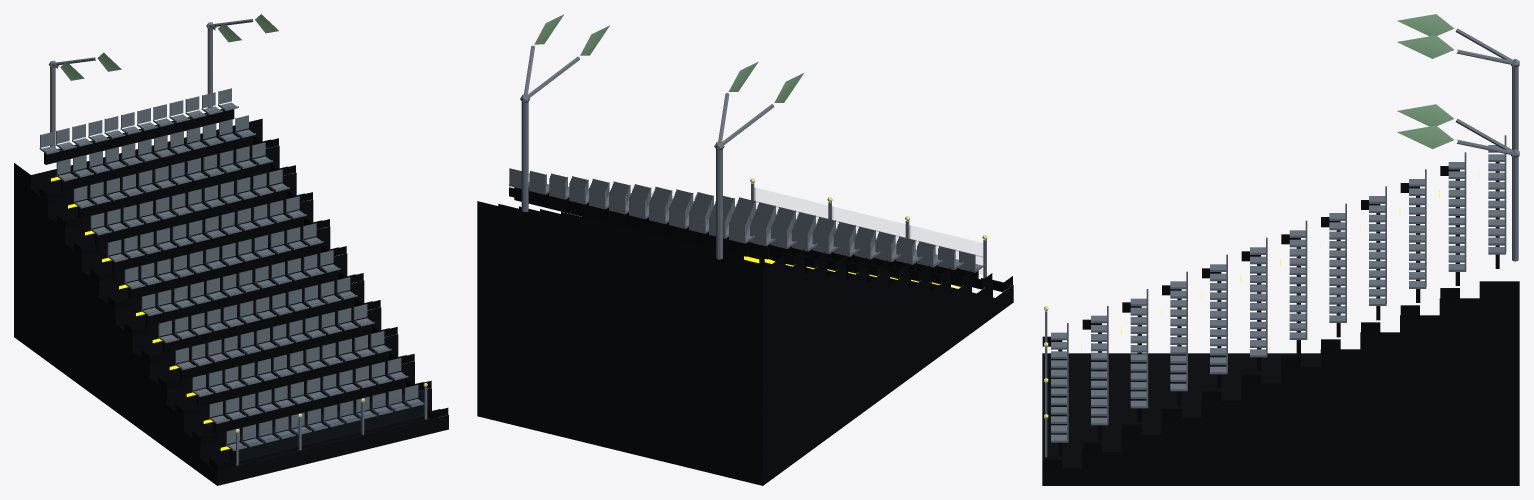
File: tt_stand_module_f3.glb
3 views of the same model, side by side, from view 1: azimuth 30°, elevation 25°; view 2: azimuth 150°, elevation 25°; view 3: azimuth 270°, elevation 25° (orthographic). The views are drawn at different scales.
Visible parts, largest first — view 1: Tier_Concrete, Seat_Backs, Seat_Beams, Seat_Pans, Aisle_Steps, Canopy_Steel, Canopy_Leaves, Rail_Posts; view 2: Tier_Concrete, Seat_Backs, Seat_Beams, Canopy_Steel, Aisle_Steps, Seat_Pans, Canopy_Leaves; view 3: Tier_Concrete, Seat_Pans, Aisle_Steps, Seat_Backs, Canopy_Leaves, Canopy_Steel, Seat_Beams.
Boxes of the visible parts, x1=… form: Tier_Concrete: x1=14, y1=118, x2=448, y2=485; Seat_Backs: x1=40, y1=88, x2=418, y2=444; Seat_Beams: x1=44, y1=107, x2=420, y2=460; Seat_Pans: x1=39, y1=102, x2=424, y2=450; Aisle_Steps: x1=39, y1=137, x2=448, y2=471; Canopy_Steel: x1=48, y1=19, x2=253, y2=147; Canopy_Leaves: x1=60, y1=14, x2=278, y2=80; Rail_Posts: x1=236, y1=387, x2=427, y2=465; Tier_Concrete: x1=477, y1=201, x2=1013, y2=485; Seat_Backs: x1=509, y1=168, x2=975, y2=270; Seat_Beams: x1=514, y1=187, x2=978, y2=278; Canopy_Steel: x1=520, y1=45, x2=774, y2=259; Aisle_Steps: x1=509, y1=187, x2=1012, y2=292; Seat_Pans: x1=509, y1=182, x2=984, y2=272; Canopy_Leaves: x1=534, y1=14, x2=803, y2=102; Tier_Concrete: x1=1042, y1=281, x2=1519, y2=485; Seat_Pans: x1=1051, y1=145, x2=1505, y2=442; Aisle_Steps: x1=1042, y1=166, x2=1459, y2=468; Seat_Backs: x1=1067, y1=135, x2=1506, y2=440; Canopy_Leaves: x1=1397, y1=14, x2=1454, y2=148; Canopy_Steel: x1=1455, y1=28, x2=1519, y2=261; Seat_Beams: x1=1058, y1=162, x2=1499, y2=456.
Bounding box in the file's own units: 7.5 × 9.21 × 11.4.
7 materials, 4 textured.
